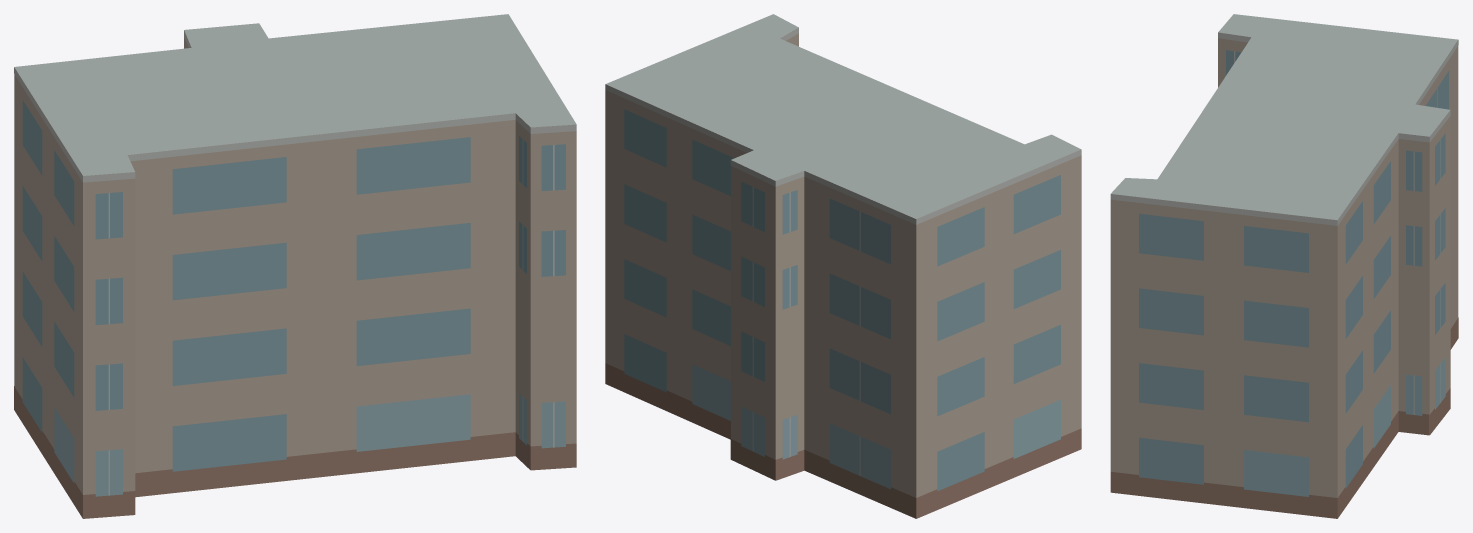
Rendered from survey-upis-32751866.glb.
3 views of the same model, side by side, from view 1: azimuth 30°, elevation 25°; view 2: azimuth 150°, elevation 25°; view 3: azimuth 270°, elevation 25° (orthographic). The views are drawn at different scales.
Parts seen in each view (by area): view 1: survey-upis-32751866.tmp; view 2: survey-upis-32751866.tmp; view 3: survey-upis-32751866.tmp.
Boxes of the visible parts, x1=… form: survey-upis-32751866.tmp: x1=14, y1=14, x2=576, y2=518; survey-upis-32751866.tmp: x1=605, y1=14, x2=1081, y2=518; survey-upis-32751866.tmp: x1=1110, y1=14, x2=1458, y2=518.
Bounding box in the file's own units: 18.96 × 12.8 × 13.52.
